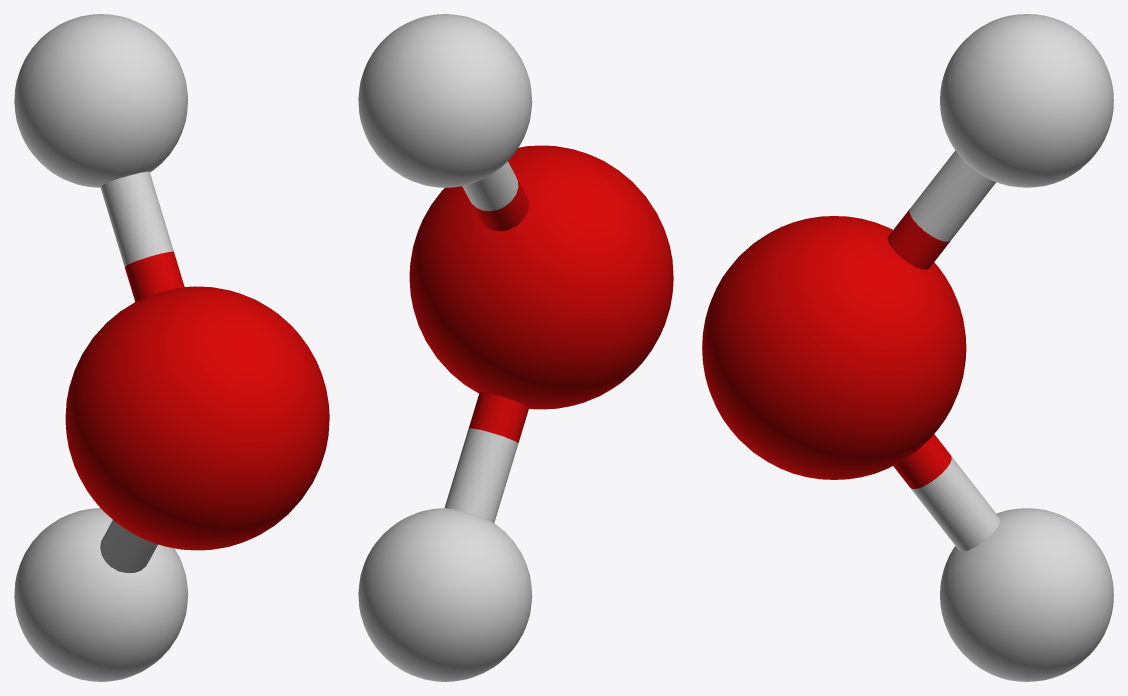
3 views of the same model, side by side, from view 1: azimuth 30°, elevation 25°; view 2: azimuth 150°, elevation 25°; view 3: azimuth 270°, elevation 25° (orthographic).
Parts seen in each view (by area): view 1: H2O; view 2: H2O; view 3: H2O.
Part boxes in pixels (x1=…): H2O: x1=14, y1=14, x2=329, y2=681; H2O: x1=358, y1=14, x2=673, y2=681; H2O: x1=702, y1=14, x2=1113, y2=681.
Size of the model in its own units: 0.4509 by 1.23 by 0.7025.
